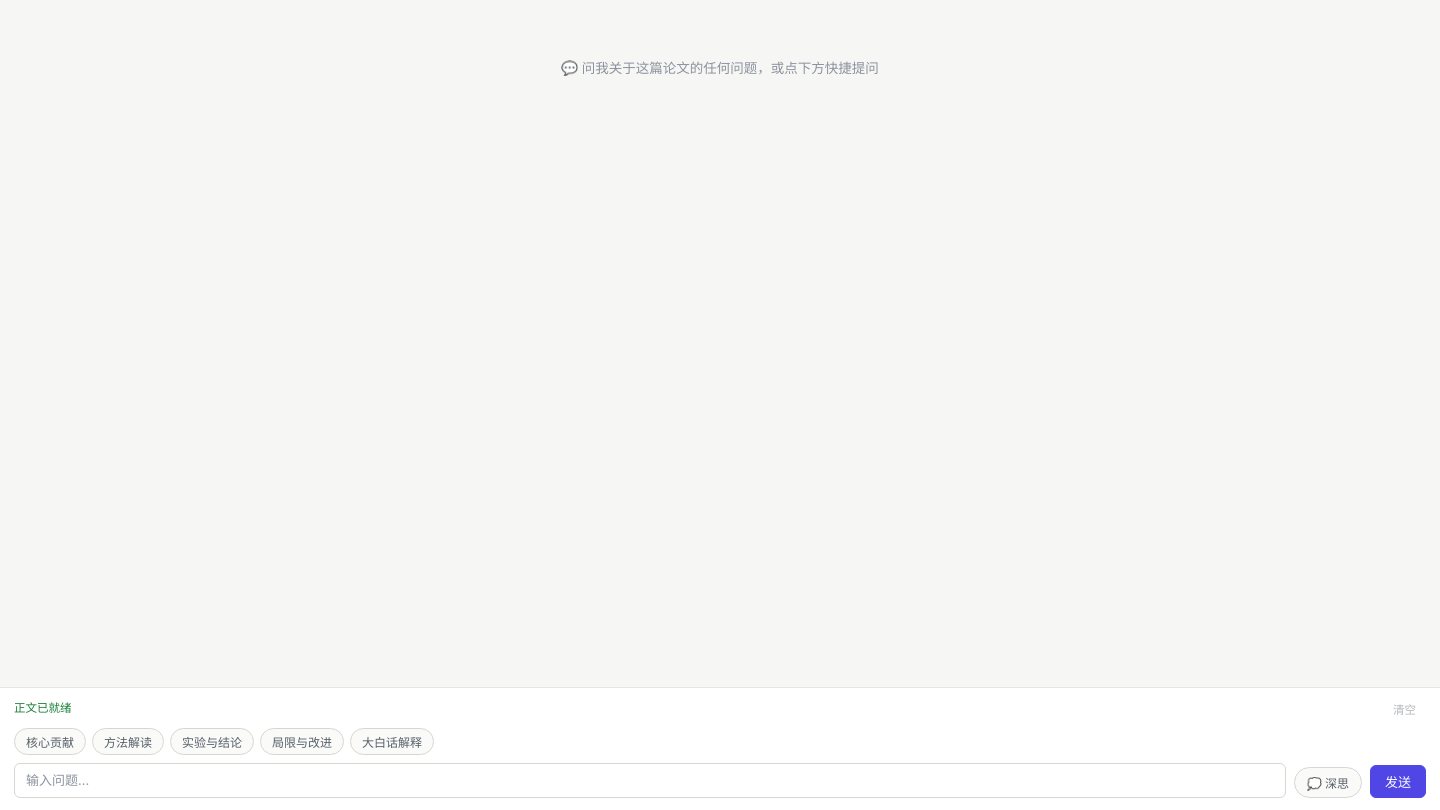
ChatView › renders quick prompt chips and sends the prompt on click
Click the button "核心贡献". click: (50, 741)
box: [14, 728, 86, 754]
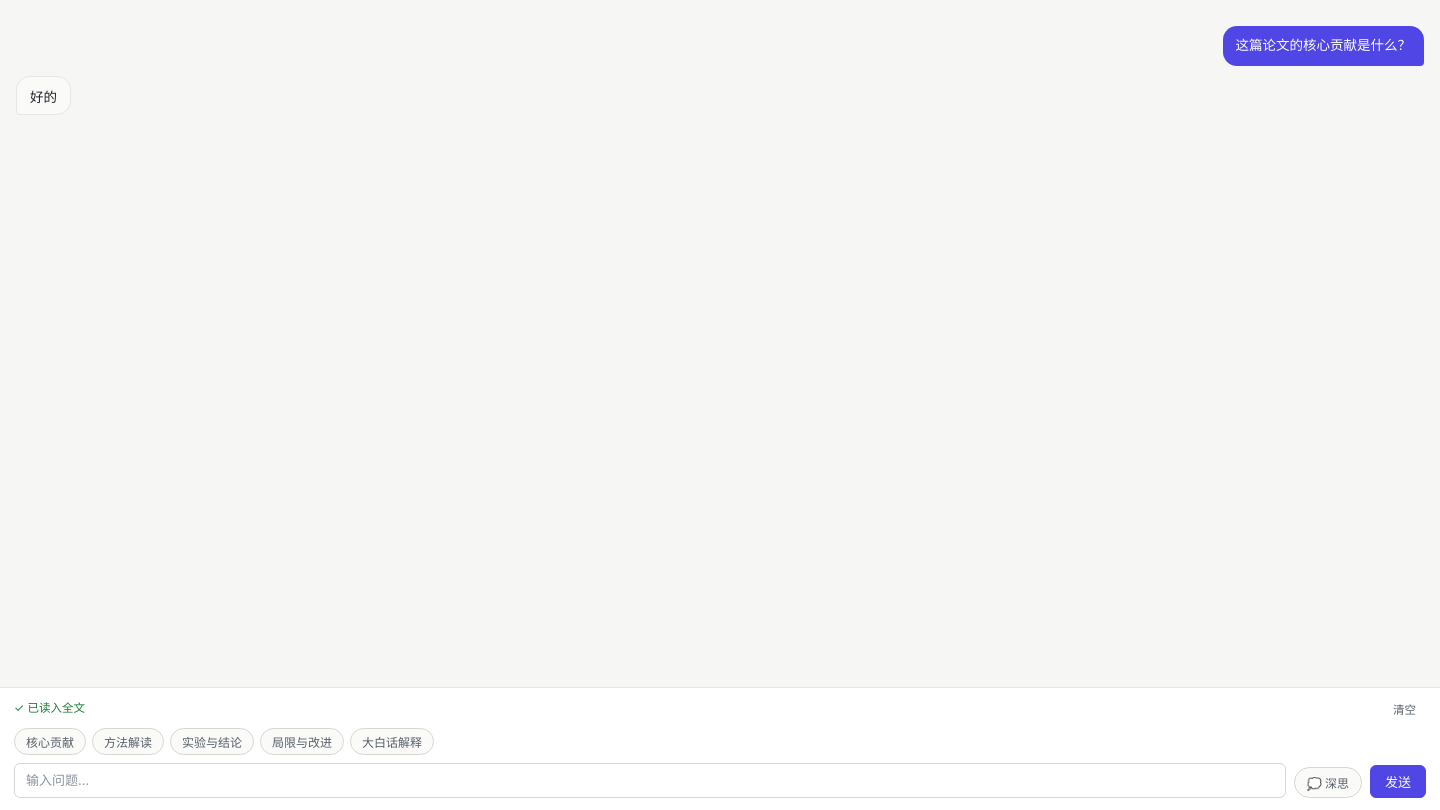
Now the text "好的" is shown, box [30, 86, 57, 108]
